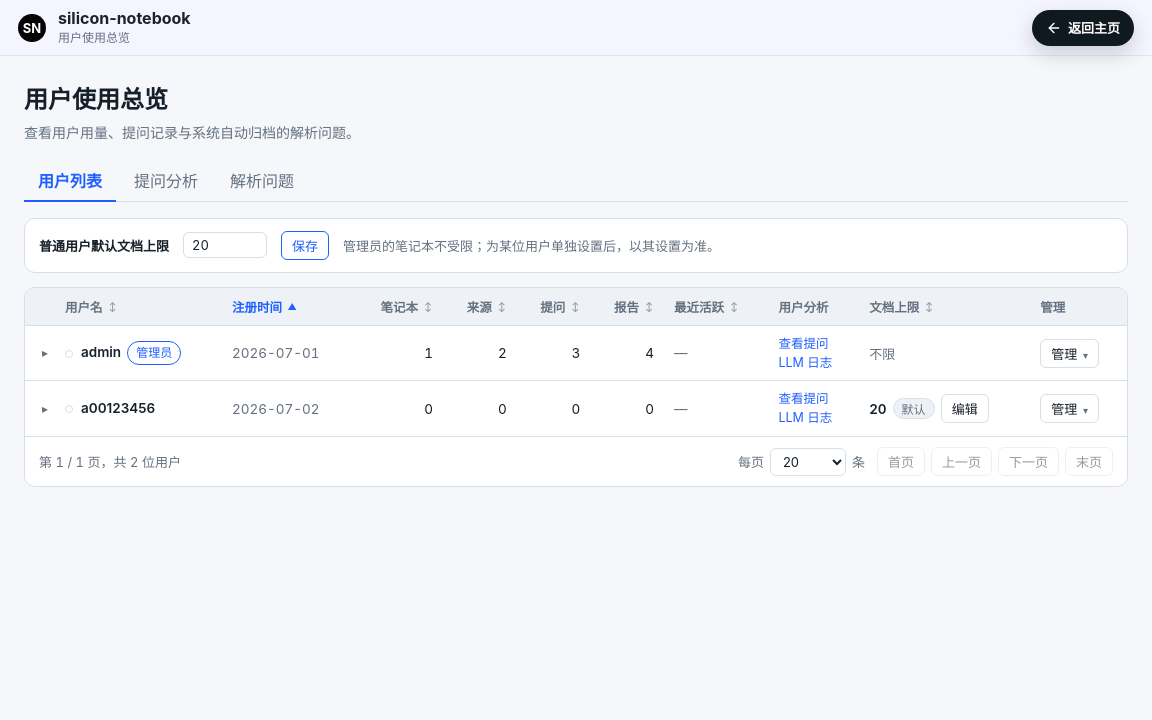
Scenario: 重置默认发送 null 覆盖并回落默认值
expect the text "a00123456" is shown: met, box [81,400,155,416]
Click the button "编辑".
click(965, 409)  # box [941,394,989,423]
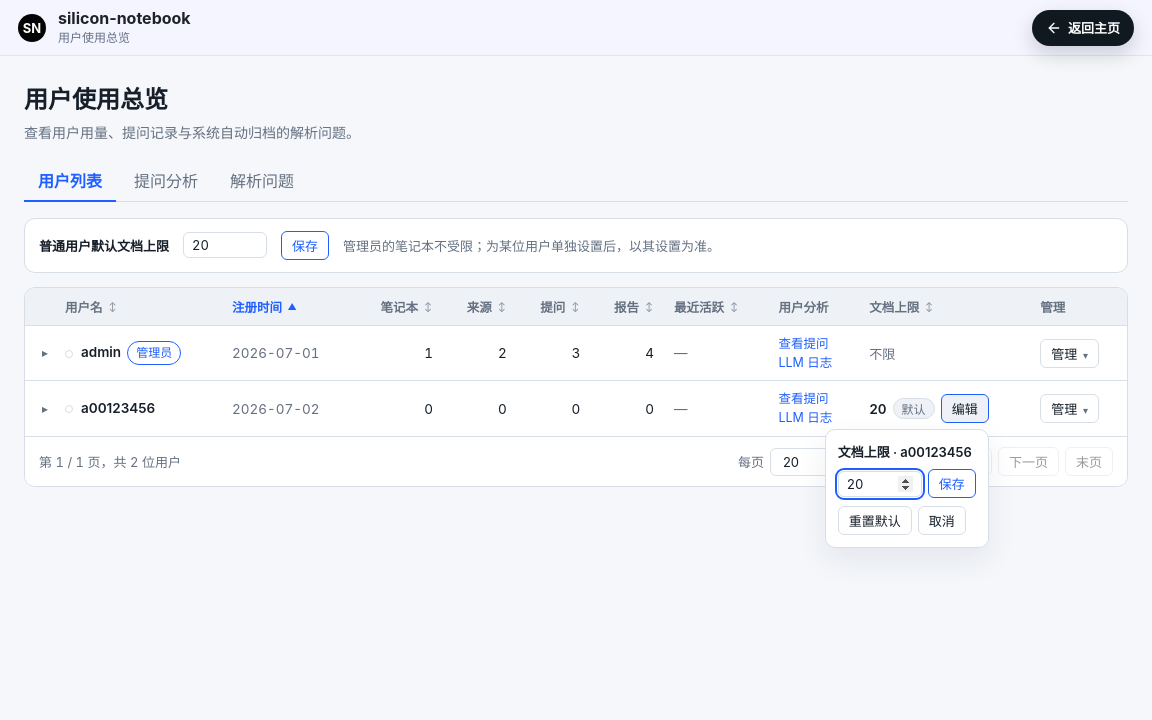
Click the button "重置默认".
click(875, 521)  # box [838,506,912,535]
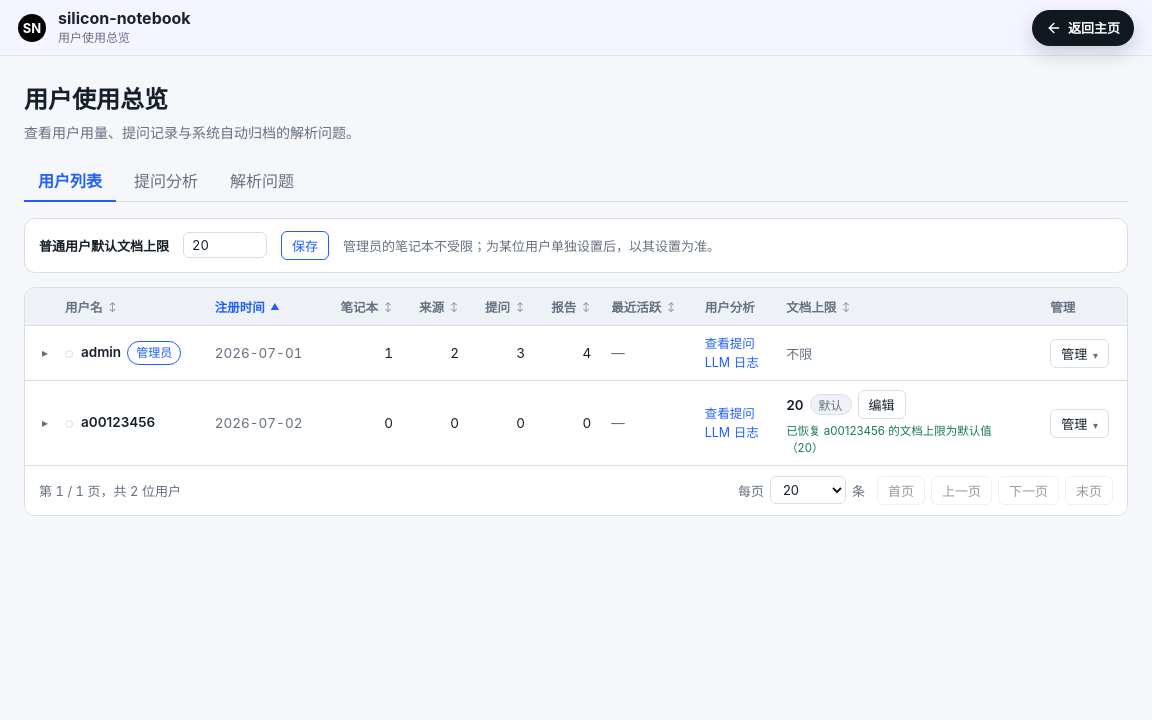
expect the text "已恢复 a00123456 的文档上限为默认值（20）" is shown: met, box [786,423,1006,456]
